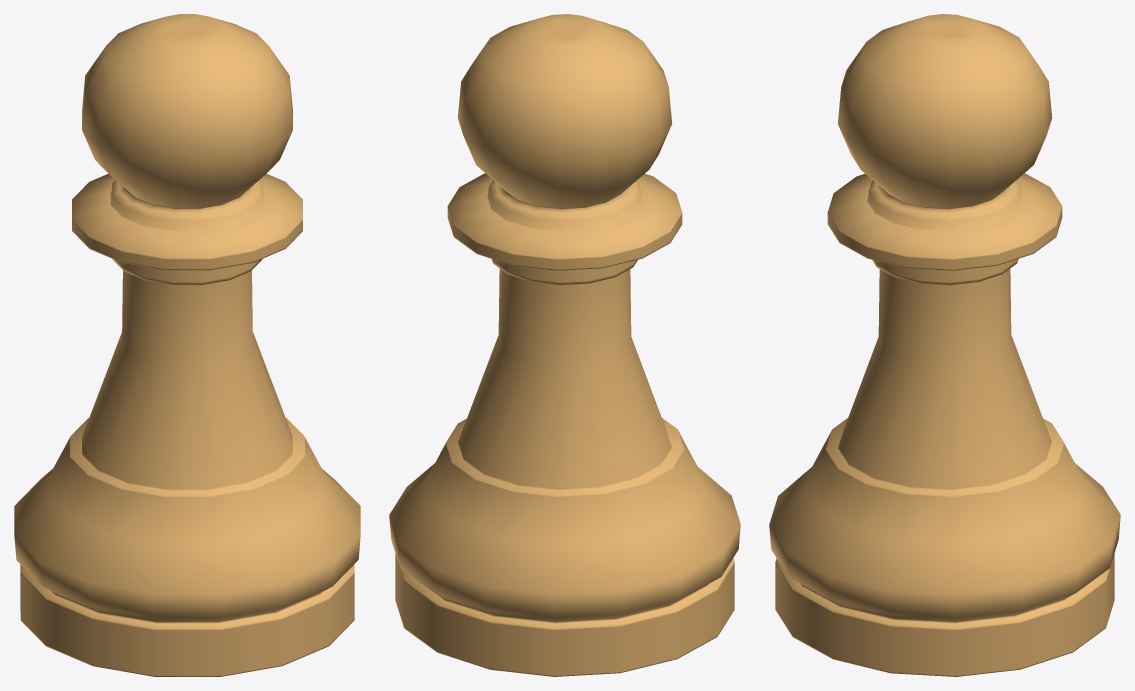
The model's file is pawn.glb.
The picture shows the model from 3 angles, left to right: view 1: azimuth 30°, elevation 25°; view 2: azimuth 150°, elevation 25°; view 3: azimuth 270°, elevation 25°; orthographic projection.
Parts seen in each view (by area): view 1: pawn; view 2: pawn; view 3: pawn.
Part boxes in pixels (x1,y1,x2,y2): pawn: [14, 14, 360, 676]; pawn: [389, 14, 740, 676]; pawn: [769, 14, 1120, 676].
Size of the model in its own units: 0.0303 by 0.0547 by 0.0303.
